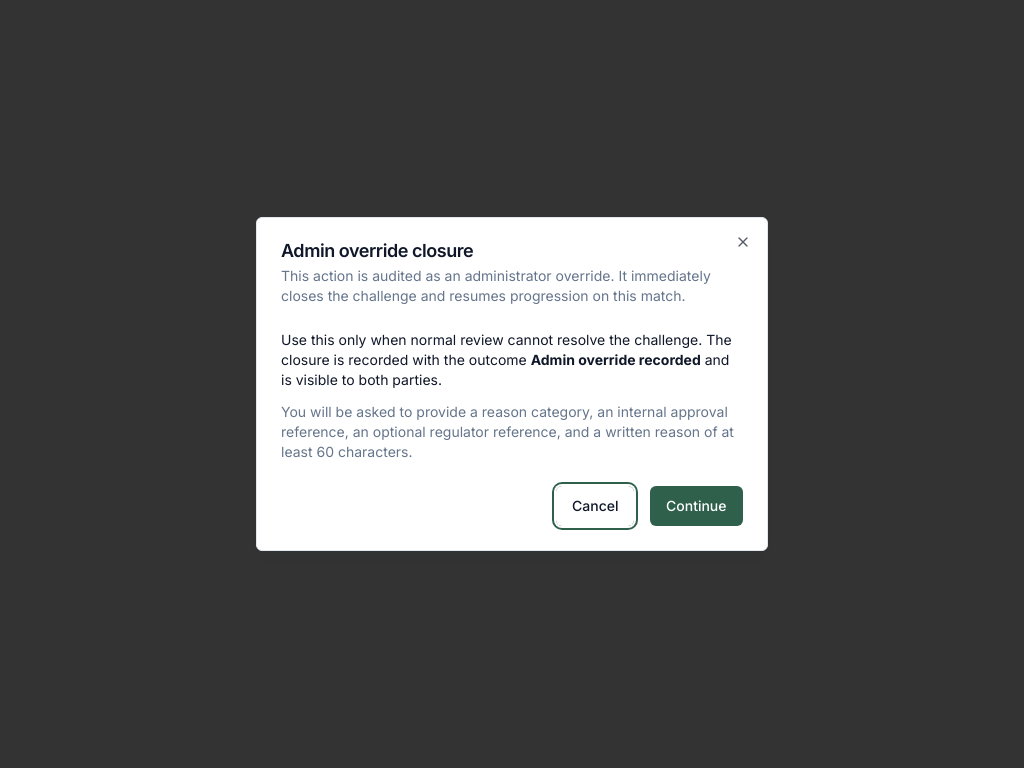
Scenario: AdminOverrideDialog — Phase 3E governance fields › blocks submit when internal approval reference is missing
The width and height of the screenshot is (1024, 768).
Later steps or results of the test are not shown.
Click the button with test id "override-continue-button" at (697, 506), box [650, 486, 743, 526]
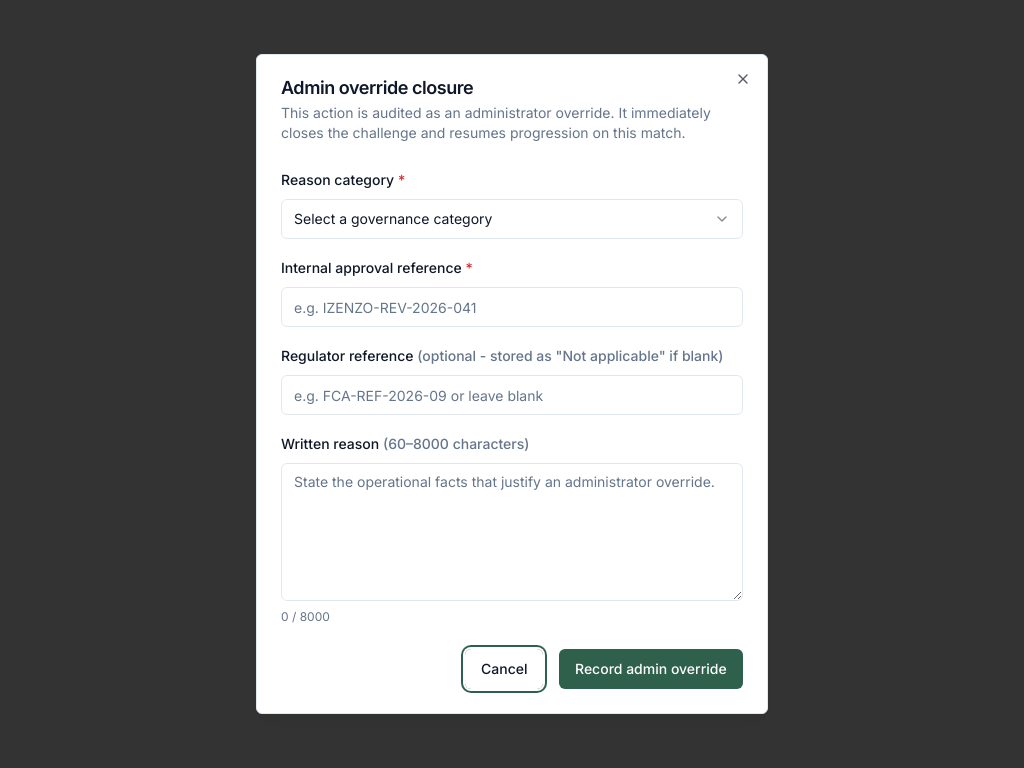
Check: the text box with test id "override-reason-input" is shown, box [281, 463, 743, 601]
